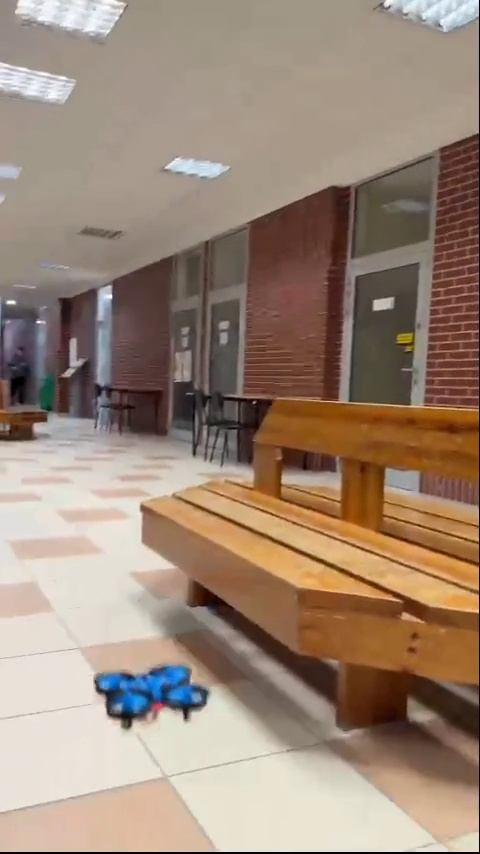drone: (96, 667, 206, 728)
no vest: (5, 337, 38, 408)
